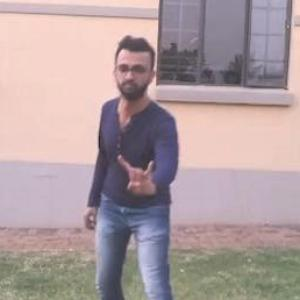takeoff-hand: (109, 146, 163, 202)
